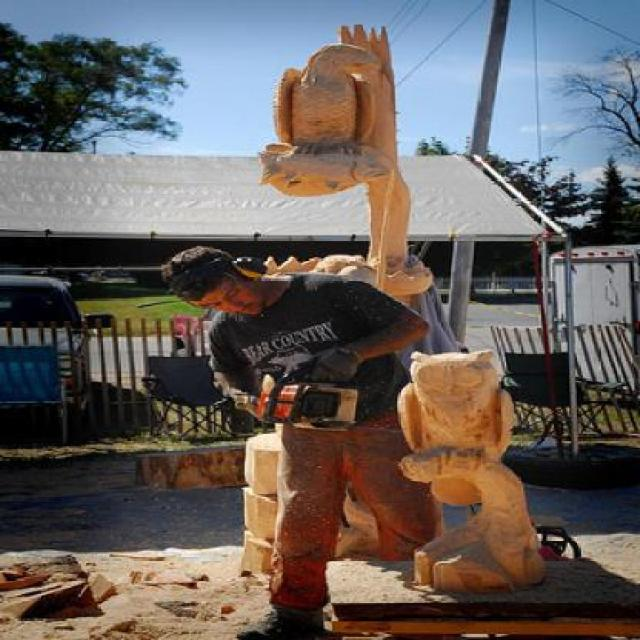Chainsaw: (258, 374, 358, 426)
